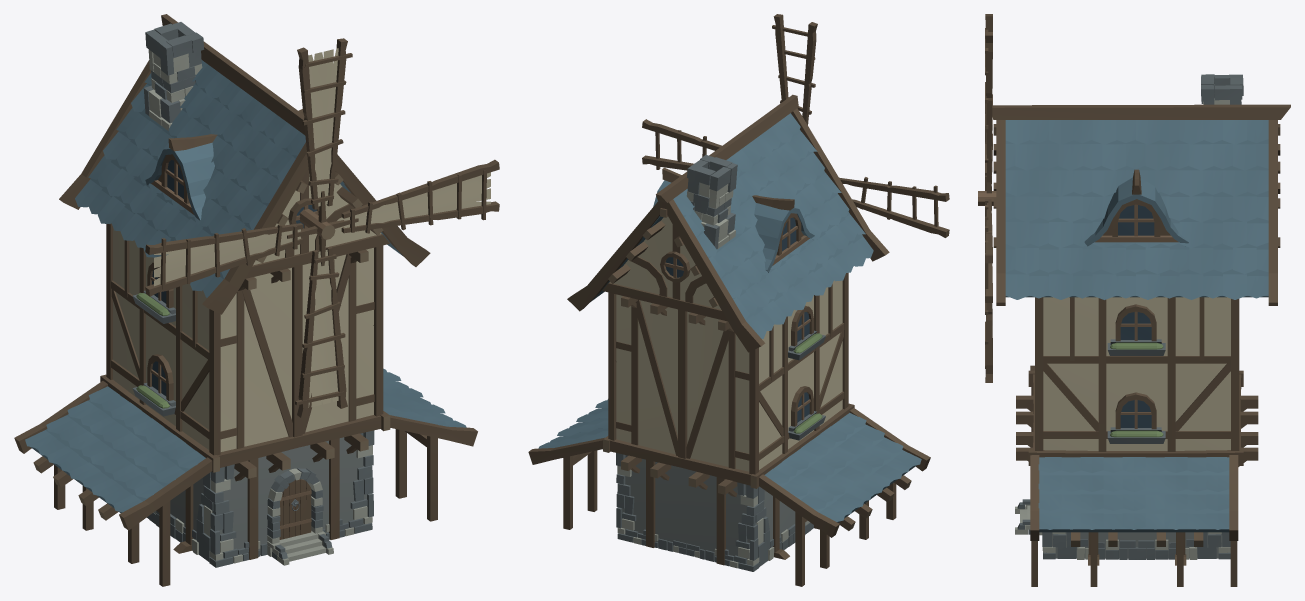
The model's file is living-mill.glb.
3 views of the same model, side by side, from view 1: azimuth 30°, elevation 25°; view 2: azimuth 150°, elevation 25°; view 3: azimuth 270°, elevation 25° (orthographic). The views are drawn at different scales.
Parts seen in each view (by area): view 1: body, rotor; view 2: body, rotor; view 3: body, rotor.
Boxes of the visible parts, x1,y1,x2,y2 form: body: (14, 14, 477, 586); rotor: (145, 38, 499, 417); body: (528, 94, 930, 586); rotor: (642, 14, 949, 237); body: (992, 74, 1290, 586); rotor: (978, 14, 996, 382).
Bounding box in the file's own units: 7.78 × 11 × 6.25.
